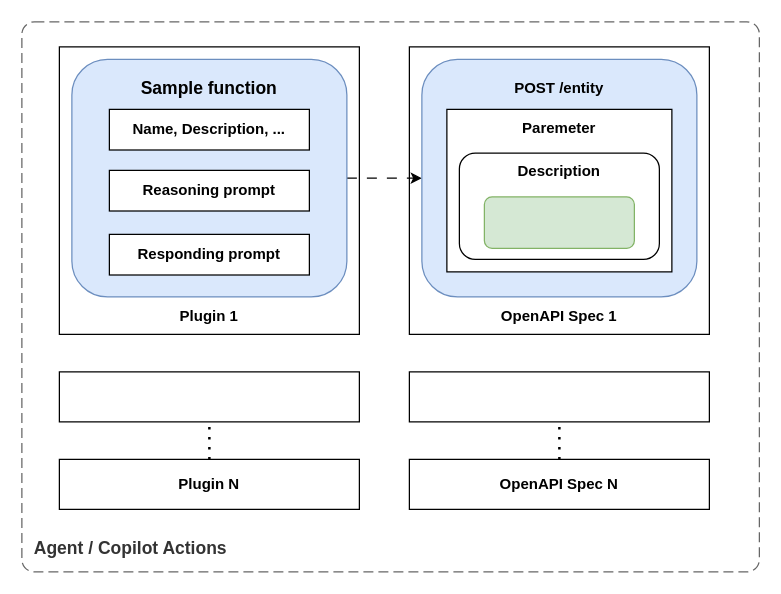
Image size: 781x594. Some labels were removed from this diagram. The shapes that lost their labels are listed below. From the top down, each one's centre as x and y in pixels, then its label:
pixel 558 222: Parameter extraction prompt
pixel 208 396: Plugin 2
pixel 558 396: OpenAPI Spec 2
